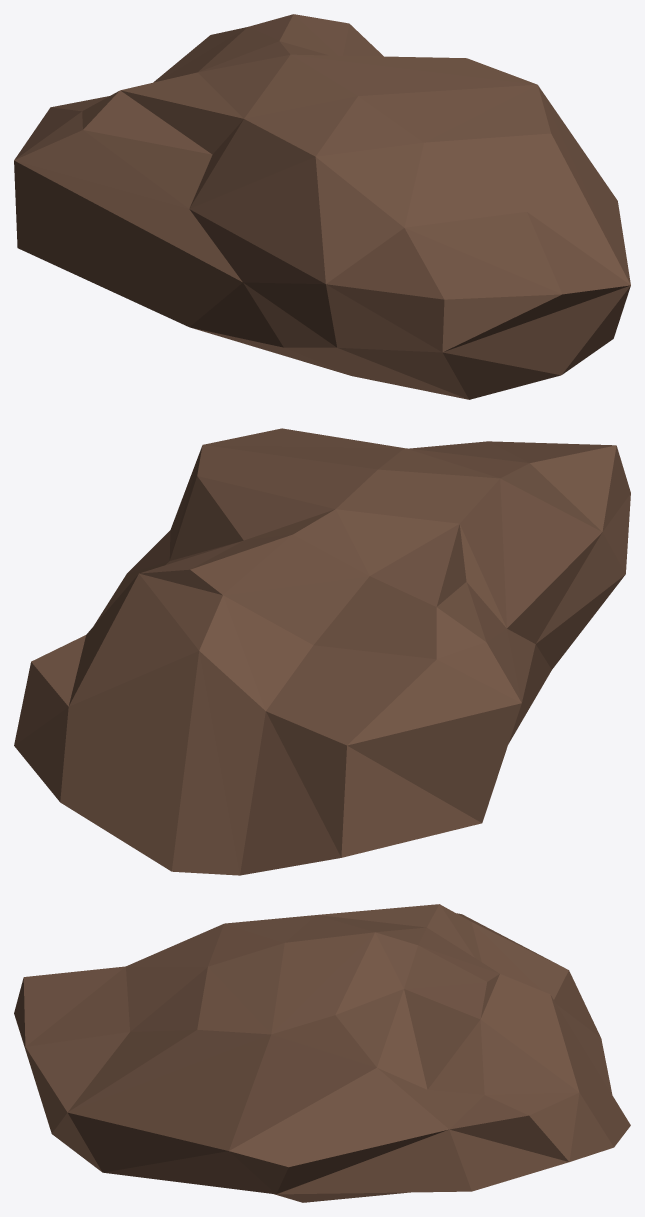
The model's file is medium_rock3.glb.
3 views of the same model, one above another, from view 1: azimuth 30°, elevation 25°; view 2: azimuth 150°, elevation 25°; view 3: azimuth 270°, elevation 25° (orthographic). The views are drawn at different scales.
Parts seen in each view (by area): view 1: medium_rock3; view 2: medium_rock3; view 3: medium_rock3.
Boxes of the visible parts, x1=… form: medium_rock3: x1=14, y1=14, x2=630, y2=399; medium_rock3: x1=14, y1=428, x2=630, y2=875; medium_rock3: x1=14, y1=904, x2=630, y2=1202.
Bounding box in the file's own units: 3.2 × 1.77 × 4.3.
